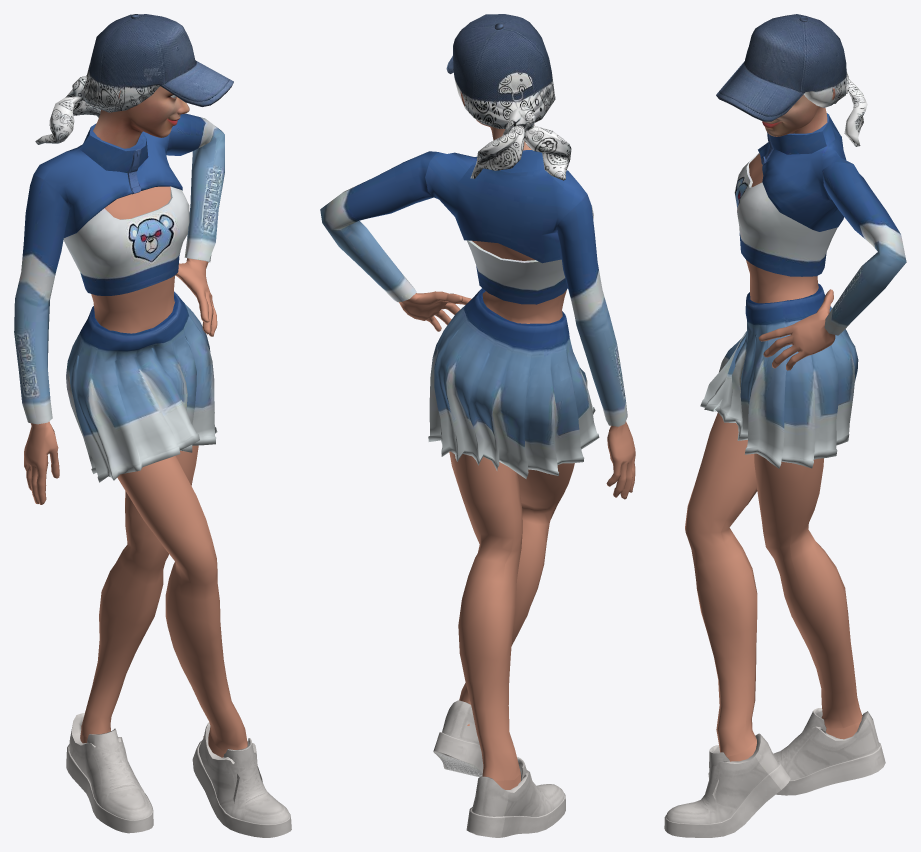
The picture shows the model from 3 angles, left to right: view 1: azimuth 30°, elevation 25°; view 2: azimuth 150°, elevation 25°; view 3: azimuth 270°, elevation 25°; orthographic projection. The views are drawn at different scales.
Visible parts, largest first — view 1: Wolf3D_Body; view 2: Wolf3D_Body; view 3: Wolf3D_Body.
Boxes of the visible parts, left/top/right/bottom form: Wolf3D_Body: left=14, top=14, right=291, bottom=837; Wolf3D_Body: left=320, top=14, right=635, bottom=837; Wolf3D_Body: left=664, top=14, right=906, bottom=837.
Bounding box in the file's own units: 0.5784 × 1.74 × 0.4917.
